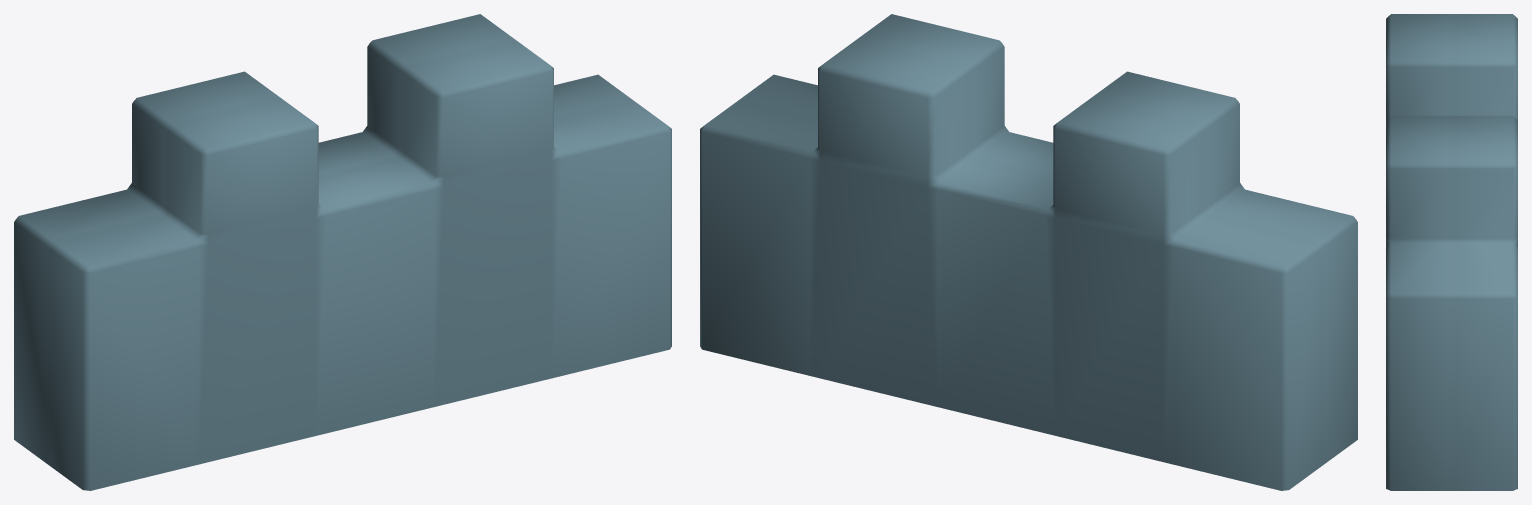
Rendered from wall.002.glb.
3 views of the same model, side by side, from view 1: azimuth 30°, elevation 25°; view 2: azimuth 150°, elevation 25°; view 3: azimuth 270°, elevation 25° (orthographic). The views are drawn at different scales.
Parts seen in each view (by area): view 1: wall.002; view 2: wall.002; view 3: wall.002.
Part boxes in pixels (<box>): wall.002: <box>14,14,671,490</box>; wall.002: <box>700,14,1357,490</box>; wall.002: <box>1386,14,1517,490</box>.
Size of the model in its own units: 6 by 3.04 by 1.31.
